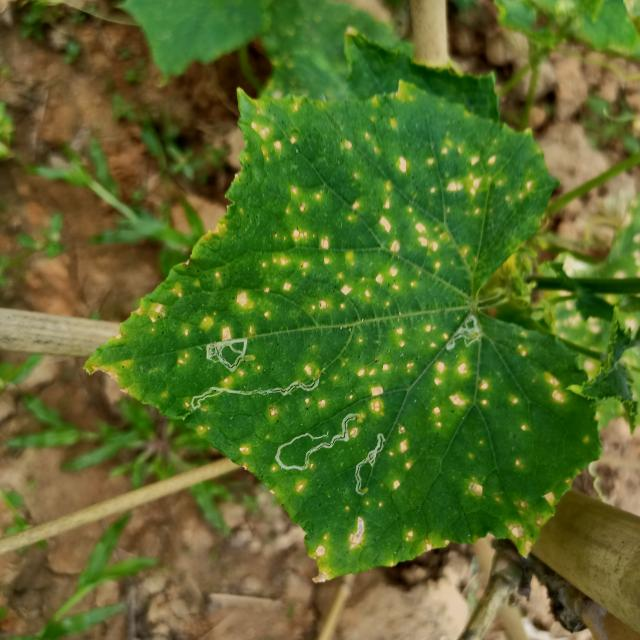disease_cucumber: (121, 92, 534, 343), (177, 342, 563, 584)
